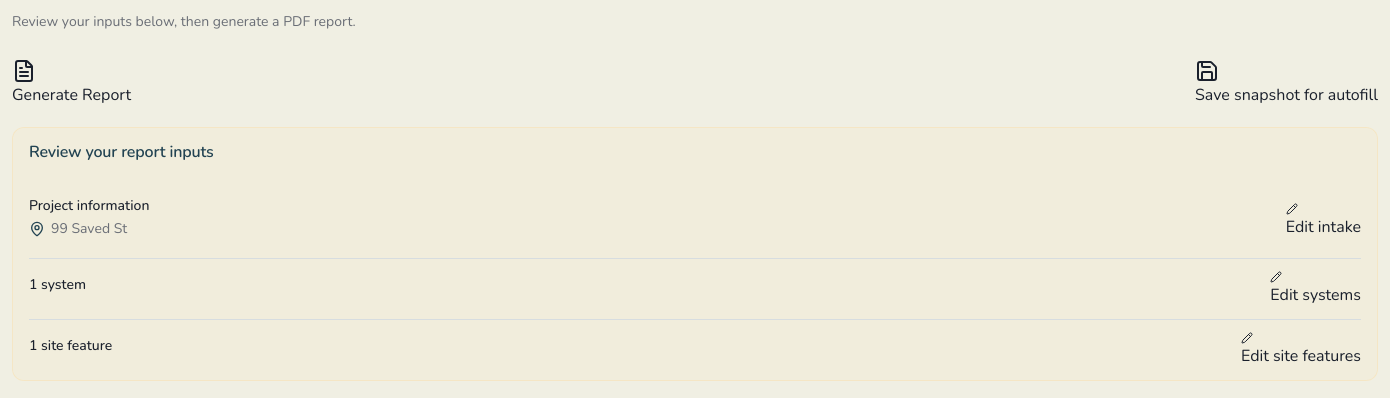
Test: ReportCard tests › snapshot save (debug mode) › writes the current state to localStorage on click and reveals Clear
Click the button "Save snapshot for autofill".
click(1286, 83)  # box top-left (1195, 59), bottom-right (1378, 107)
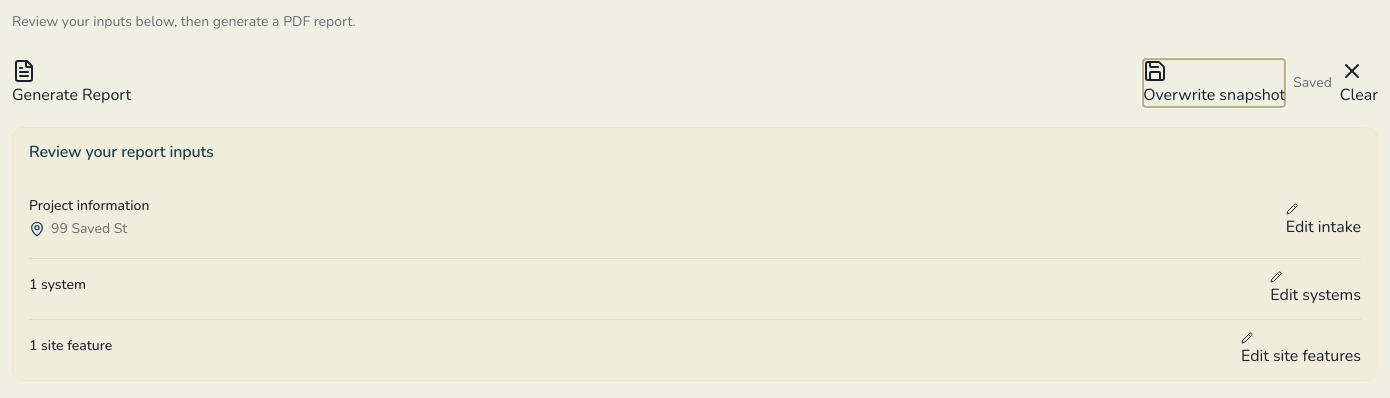
Expected: the element showing "99 Saved St" is shown, top-left (29, 219), bottom-right (127, 238)
Expected: the button "Clear" is shown, top-left (1340, 59), bottom-right (1378, 107)
Expected: the button "Overwrite snapshot" is shown, top-left (1143, 59), bottom-right (1285, 107)
